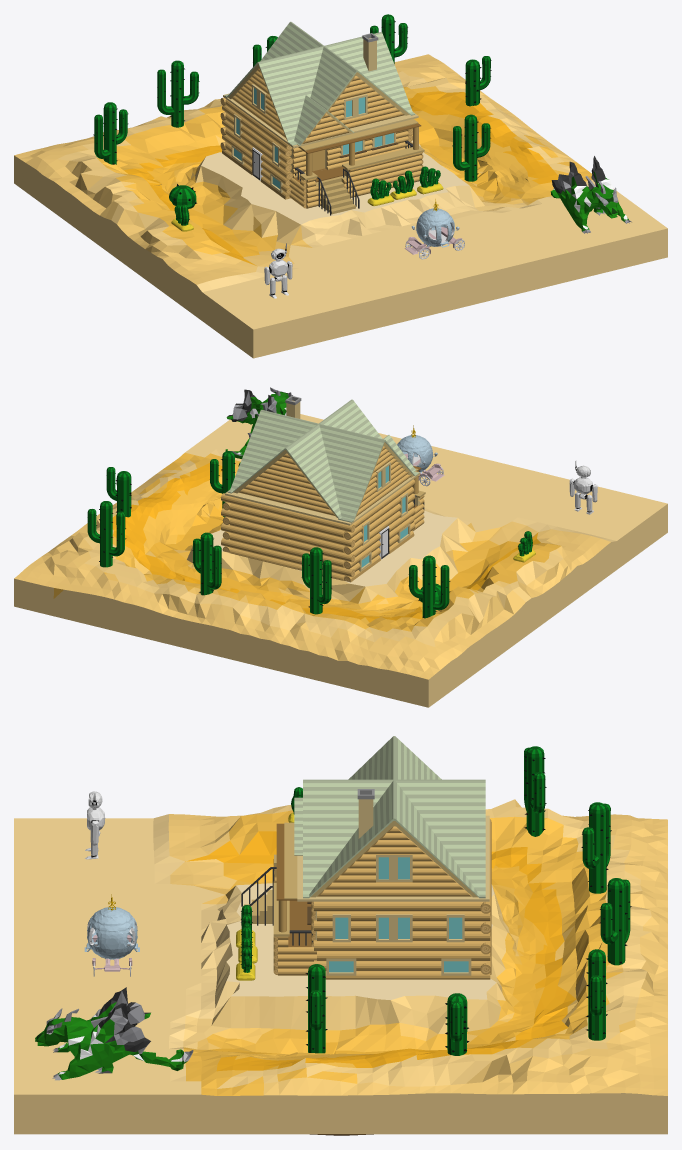
The picture shows the model from 3 angles, top to bottom: view 1: azimuth 30°, elevation 25°; view 2: azimuth 150°, elevation 25°; view 3: azimuth 270°, elevation 25°; orthographic projection. The views are drawn at different scales.
Parts seen in each view (by area): view 1: Cube.001, Cube.1516, ANIMAL_DRAGON, VEHICLES_FANTASY_CARRIAGE, Cylinder.037, Cylinder.044, Cylinder.045, Cylinder.038, OBJRANDOM_PLATZEEBOT, Cylinder.042, Cylinder.039, Cylinder.041 (+1 smaller); view 2: Cube.001, Cube.1516, Cylinder.045, Cylinder.042, Cylinder.044, Cylinder.043, ANIMAL_DRAGON, VEHICLES_FANTASY_CARRIAGE, Cylinder.038, OBJRANDOM_PLATZEEBOT, Cylinder.037; view 3: Cube.001, Cube.1516, ANIMAL_DRAGON, VEHICLES_FANTASY_CARRIAGE, Cylinder.043, Cylinder.044, Cylinder.045, Cylinder.042, Cylinder.037, Cylinder.038, OBJRANDOM_PLATZEEBOT, Cylinder.041.
Boxes of the visible parts, x1=… form: Cube.001: x1=14, y1=54, x2=667, y2=358; Cube.1516: x1=220, y1=21, x2=424, y2=215; ANIMAL_DRAGON: x1=550, y1=156, x2=631, y2=233; VEHICLES_FANTASY_CARRIAGE: x1=404, y1=199, x2=464, y2=259; Cylinder.037: x1=452, y1=114, x2=490, y2=181; Cylinder.044: x1=157, y1=60, x2=199, y2=127; Cylinder.045: x1=93, y1=102, x2=128, y2=164; Cylinder.038: x1=465, y1=56, x2=491, y2=106; OBJRANDOM_PLATZEEBOT: x1=264, y1=243, x2=292, y2=298; Cylinder.042: x1=370, y1=14, x2=407, y2=63; Cylinder.039: x1=367, y1=178, x2=394, y2=205; Cylinder.041: x1=417, y1=166, x2=443, y2=194; Cube.001: x1=14, y1=414, x2=667, y2=707; Cube.1516: x1=221, y1=395, x2=425, y2=582; Cylinder.045: x1=408, y1=555, x2=450, y2=618; Cylinder.042: x1=87, y1=501, x2=126, y2=567; Cylinder.044: x1=301, y1=547, x2=331, y2=614; Cylinder.043: x1=192, y1=532, x2=221, y2=595; ANIMAL_DRAGON: x1=225, y1=387, x2=292, y2=458; VEHICLES_FANTASY_CARRIAGE: x1=397, y1=425, x2=444, y2=486; Cylinder.038: x1=106, y1=467, x2=131, y2=517; OBJRANDOM_PLATZEEBOT: x1=569, y1=460, x2=597, y2=514; Cylinder.037: x1=210, y1=451, x2=240, y2=517; Cube.001: x1=14, y1=799, x2=667, y2=1134; Cube.1516: x1=241, y1=736, x2=491, y2=979; ANIMAL_DRAGON: x1=35, y1=987, x2=193, y2=1080; VEHICLES_FANTASY_CARRIAGE: x1=84, y1=894, x2=139, y2=976; Cylinder.043: x1=599, y1=878, x2=631, y2=965; Cylinder.044: x1=581, y1=802, x2=611, y2=893; Cylinder.045: x1=524, y1=746, x2=546, y2=836; Cylinder.042: x1=586, y1=949, x2=607, y2=1040; Cylinder.037: x1=305, y1=964, x2=327, y2=1053; Cylinder.038: x1=445, y1=993, x2=469, y2=1055; OBJRANDOM_PLATZEEBOT: x1=85, y1=791, x2=105, y2=859; Cylinder.041: x1=236, y1=937, x2=255, y2=980.
Size of the model in its own units: 4002 by 1693 by 4001.
34 materials, 3 textured.
